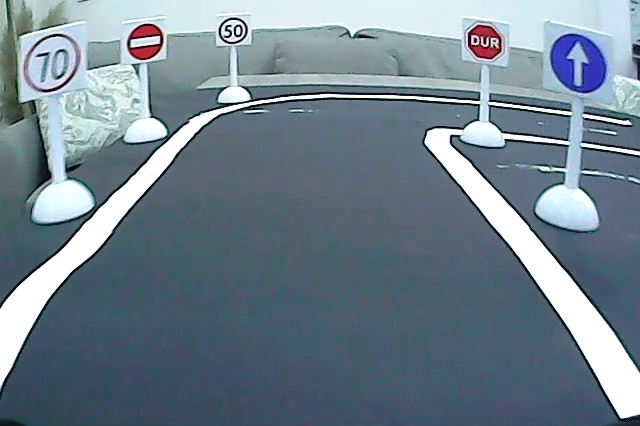do not enter: (126, 22, 165, 63)
speed limit 50: (218, 15, 250, 46)
speed limit 70: (22, 31, 83, 95)
stop sign: (464, 20, 507, 64)
